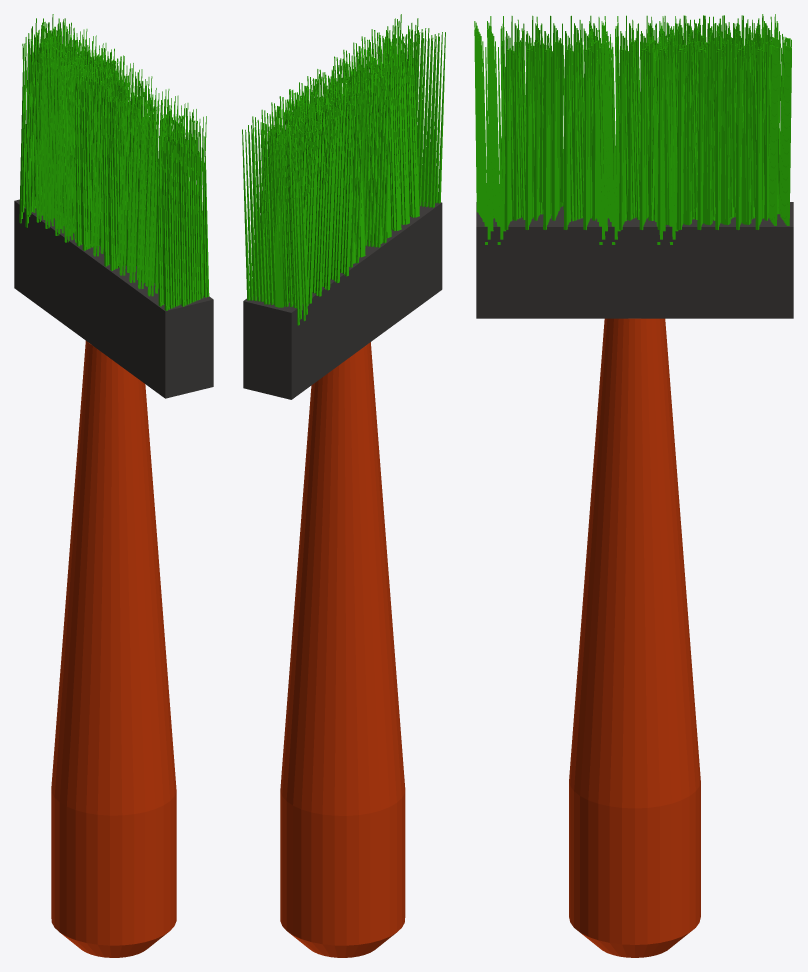
The model's file is Kwastgroen.obj.
3 views of the same model, side by side, from view 1: azimuth 30°, elevation 25°; view 2: azimuth 150°, elevation 25°; view 3: azimuth 270°, elevation 25° (orthographic). The views are drawn at different scales.
Parts seen in each view (by area): view 1: Cylinder, Cube.001_Cube, Cube_Cube.001; view 2: Cylinder, Cube.001_Cube, Cube_Cube.001; view 3: Cylinder, Cube.001_Cube, Cube_Cube.001.
Part boxes in pixels (<box>): Cylinder: <box>51,341,176,957</box>; Cube.001_Cube: <box>19,14,209,310</box>; Cube_Cube.001: <box>14,199,213,398</box>; Cylinder: <box>280,342,405,957</box>; Cube.001_Cube: <box>242,14,445,325</box>; Cube_Cube.001: <box>243,202,442,399</box>; Cylinder: <box>569,318,700,957</box>; Cube.001_Cube: <box>474,14,791,244</box>; Cube_Cube.001: <box>476,202,793,318</box>.
Bounding box in the file's own units: 2 × 15.44 × 4.84.
